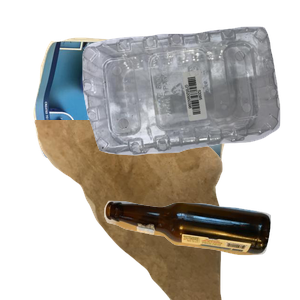glass: (101, 198, 300, 300)
paper: (31, 34, 252, 205)
plastic: (80, 24, 300, 172)
trash: (32, 120, 248, 300)
